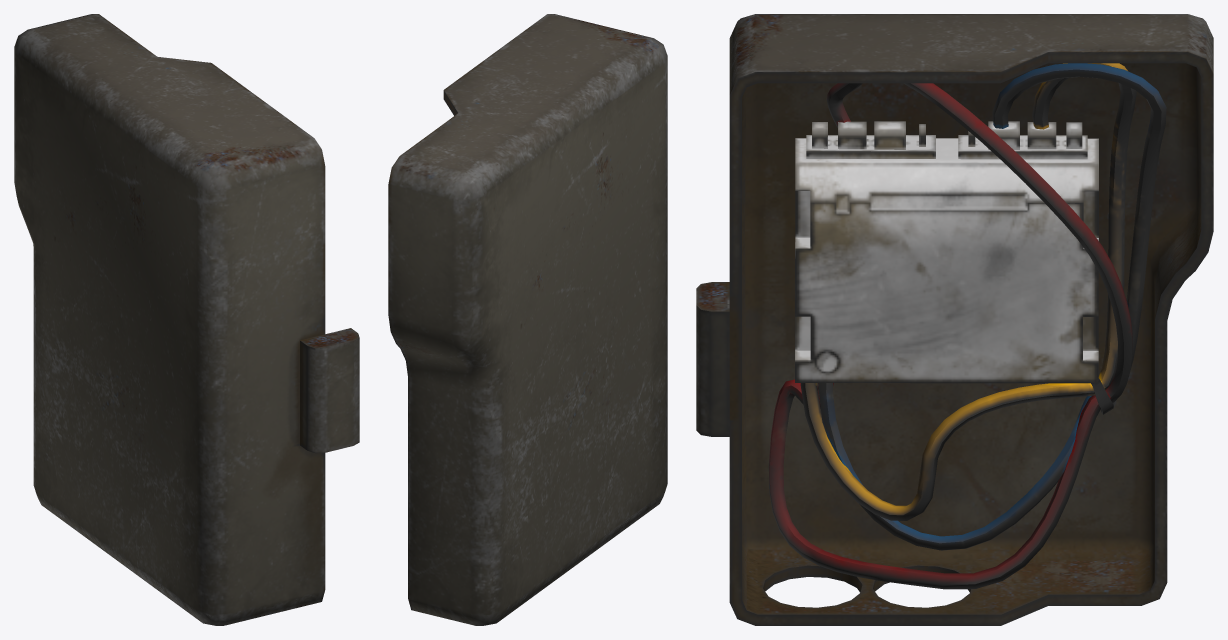
The model's file is SM_Electricbox_01_LOD0.glb.
The picture shows the model from 3 angles, left to right: view 1: azimuth 30°, elevation 25°; view 2: azimuth 150°, elevation 25°; view 3: azimuth 270°, elevation 25°; orthographic projection. The views are drawn at different scales.
Visible parts, largest first — view 1: SM_Electricbox_01_LOD0; view 2: SM_Electricbox_01_LOD0; view 3: SM_Electricbox_01_LOD0.
Boxes of the visible parts, x1,y1,x2,y2 form: SM_Electricbox_01_LOD0: [14, 14, 359, 625]; SM_Electricbox_01_LOD0: [388, 14, 667, 625]; SM_Electricbox_01_LOD0: [696, 14, 1213, 625].
Size of the model in its own units: 0.0961 by 0.2988 by 0.253.
Materials: 1 (1 with a texture image).
